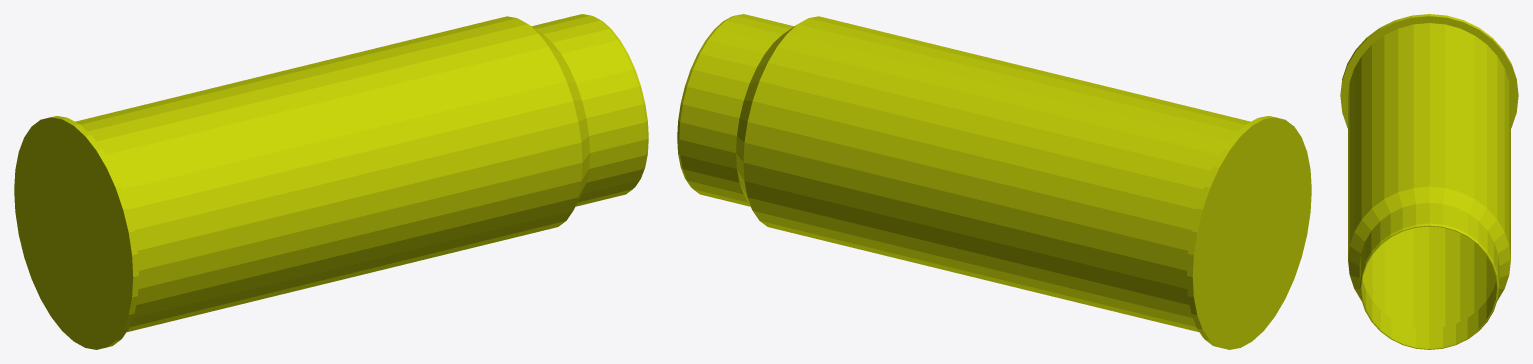
Rendered from assaultRifleShell.fbx.
3 renders of one model, left to right at view 1: azimuth 30°, elevation 25°; view 2: azimuth 150°, elevation 25°; view 3: azimuth 270°, elevation 25°, orthographic. The views are drawn at different scales.
Visible parts, largest first — view 1: Cylinder; view 2: Cylinder; view 3: Cylinder.
Boxes of the visible parts, x1,y1,x2,y2 form: Cylinder: (14,14,648,349); Cylinder: (677,14,1311,349); Cylinder: (1340,14,1518,349).
Size of the model in its own units: 10.27 by 4 by 4.
